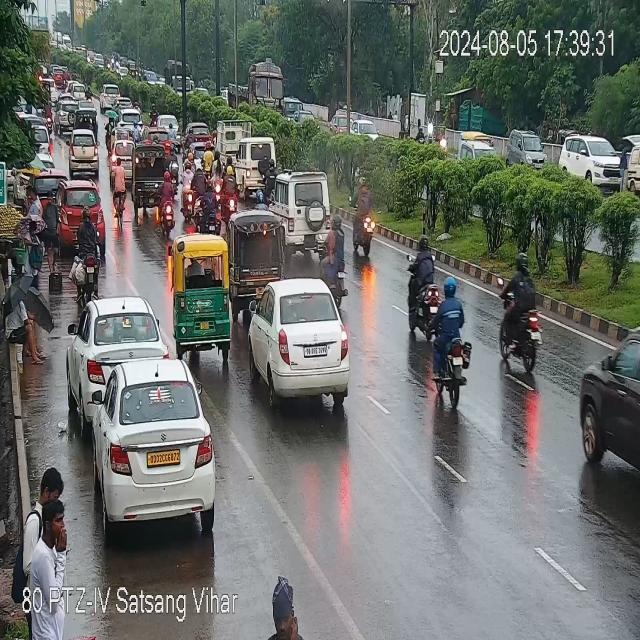2-wheelers: (429, 279, 472, 405), (496, 270, 544, 370), (404, 239, 445, 335), (190, 158, 222, 231), (73, 206, 103, 282), (346, 188, 378, 254), (183, 158, 210, 225), (156, 164, 179, 232)
auto: (171, 236, 234, 360), (229, 218, 292, 295), (130, 152, 172, 212), (63, 105, 100, 133)
car: (75, 357, 220, 531), (250, 282, 352, 403), (68, 298, 170, 416), (578, 324, 636, 490), (276, 175, 332, 255), (559, 133, 630, 187), (58, 184, 104, 242), (507, 117, 540, 181), (458, 123, 494, 181), (64, 130, 104, 176), (187, 122, 216, 151), (150, 112, 183, 134), (100, 84, 124, 109), (114, 97, 142, 112)
pedestrian: (26, 492, 74, 596), (256, 577, 304, 640), (40, 464, 68, 508)
truck: (216, 56, 290, 119)
